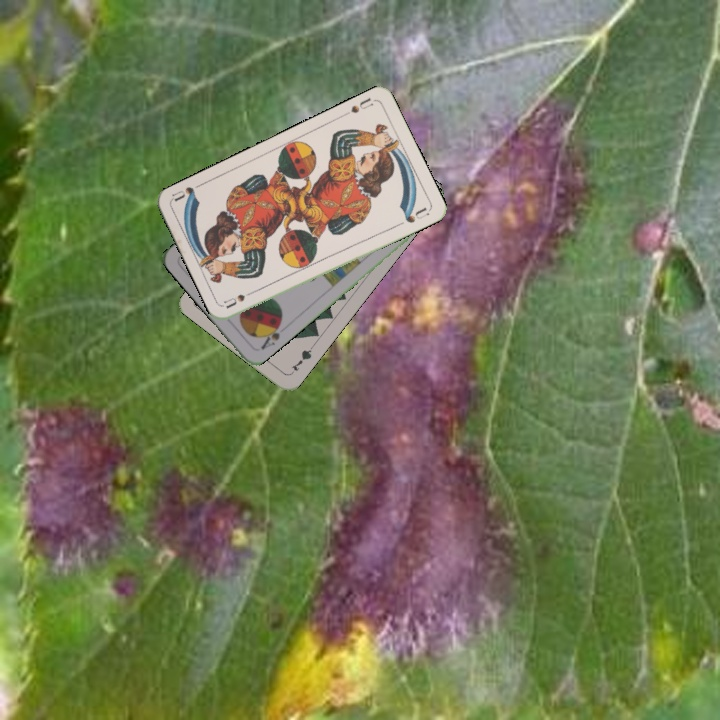G7: (286, 342, 315, 377)
SA: (256, 318, 284, 352)
SU: (221, 285, 260, 312), (347, 94, 376, 116)
